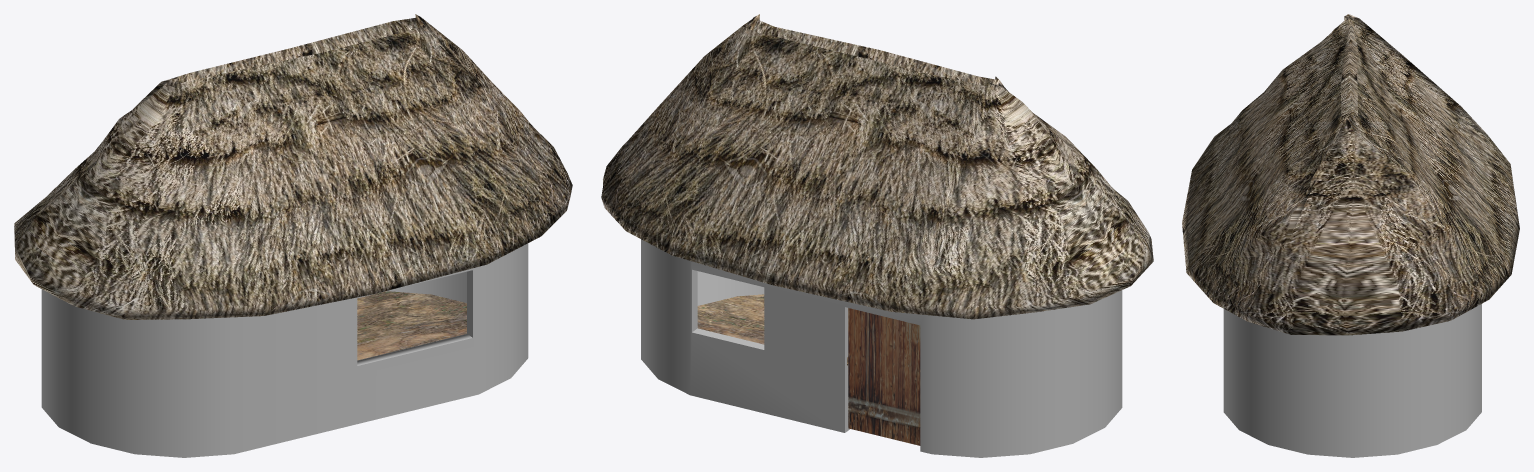
The model's file is mayanHouse001.fbx.
The picture shows the model from 3 angles, left to right: view 1: azimuth 30°, elevation 25°; view 2: azimuth 150°, elevation 25°; view 3: azimuth 270°, elevation 25°; orthographic projection. The views are drawn at different scales.
Parts seen in each view (by area): view 1: Toit, Murs, Sol; view 2: Toit, Murs, Porte, Sol; view 3: Toit, Murs.
Boxes of the visible parts, box(x1,y1,x2,y2) form: Toit: box(14, 14, 572, 319); Murs: box(41, 243, 528, 457); Sol: box(357, 291, 466, 360); Toit: box(601, 14, 1153, 319); Murs: box(641, 239, 1122, 457); Porte: box(848, 308, 920, 445); Sol: box(697, 294, 847, 365); Toit: box(1182, 14, 1519, 335); Murs: box(1223, 304, 1481, 457).
Size of the model in its own units: 62.21 by 37.62 by 38.63.
